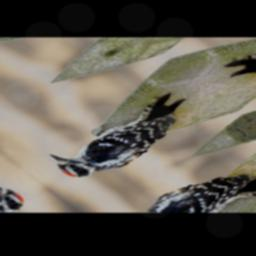Woodpecker: (41, 90, 217, 189)
